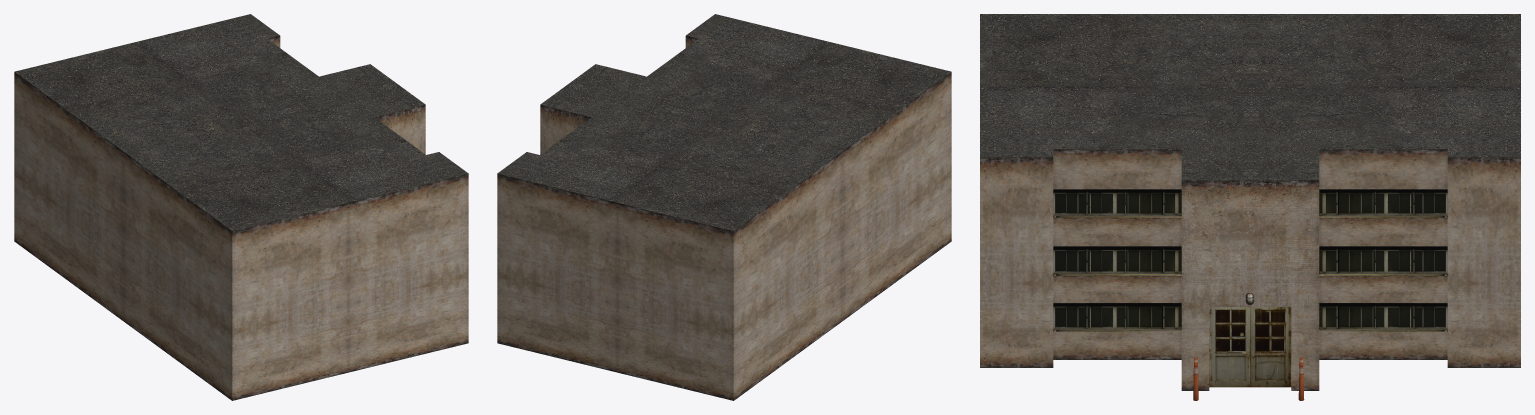
Rendered from Building.fbx.
3 views of the same model, side by side, from view 1: azimuth 30°, elevation 25°; view 2: azimuth 150°, elevation 25°; view 3: azimuth 270°, elevation 25° (orthographic). The views are drawn at different scales.
Visible parts, largest first — view 1: polySurface132; view 2: polySurface132; view 3: polySurface132.
Boxes of the visible parts, box(x1,y1,x2,y2) form: polySurface132: box(14, 14, 468, 400); polySurface132: box(497, 14, 951, 400); polySurface132: box(980, 14, 1520, 400).
Bounding box in the file's own units: 1390 × 774 × 1799.
Materials: 1 (1 with a texture image).
